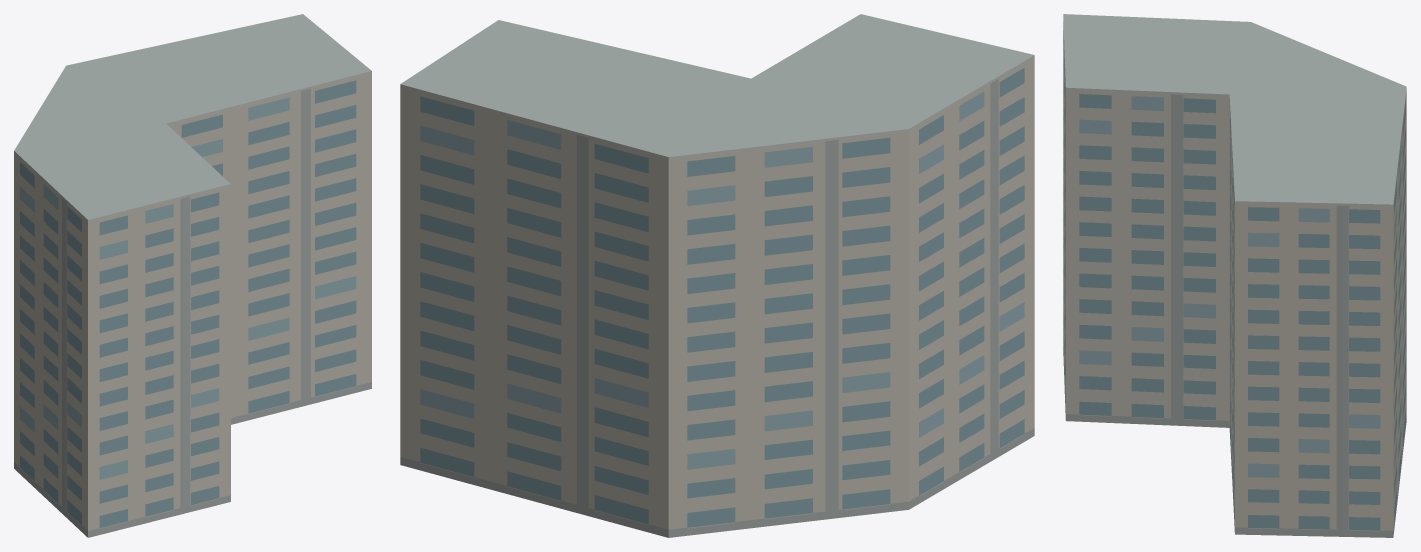
The model's file is residential-9864aac1-41f7-46ab-8a8b-2f00445e1604.glb.
The picture shows the model from 3 angles, left to right: view 1: azimuth 30°, elevation 25°; view 2: azimuth 150°, elevation 25°; view 3: azimuth 270°, elevation 25°; orthographic projection. The views are drawn at different scales.
Visible parts, largest first — view 1: residential-9864aac1-41f7-46ab-8a8b-2f00445e1604.tmp; view 2: residential-9864aac1-41f7-46ab-8a8b-2f00445e1604.tmp; view 3: residential-9864aac1-41f7-46ab-8a8b-2f00445e1604.tmp.
Boxes of the visible parts, bbox=[...] form: residential-9864aac1-41f7-46ab-8a8b-2f00445e1604.tmp: bbox=[14, 14, 371, 537]; residential-9864aac1-41f7-46ab-8a8b-2f00445e1604.tmp: bbox=[400, 14, 1034, 537]; residential-9864aac1-41f7-46ab-8a8b-2f00445e1604.tmp: bbox=[1063, 14, 1406, 537].
Bounding box in the file's own units: 44.14 × 36 × 33.63.
